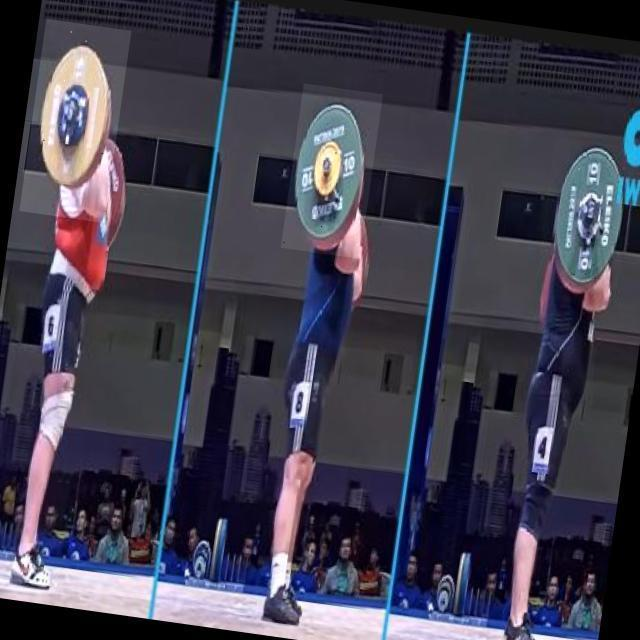barbell: (20, 21, 132, 225), (282, 85, 384, 261), (537, 138, 638, 291)
